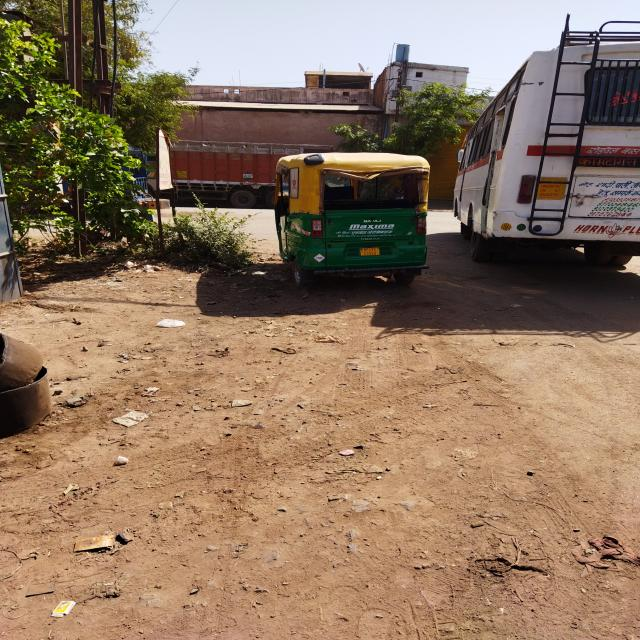Bus: (448, 17, 640, 280)
Truck: (117, 128, 333, 215)
tempo: (269, 147, 442, 284)
